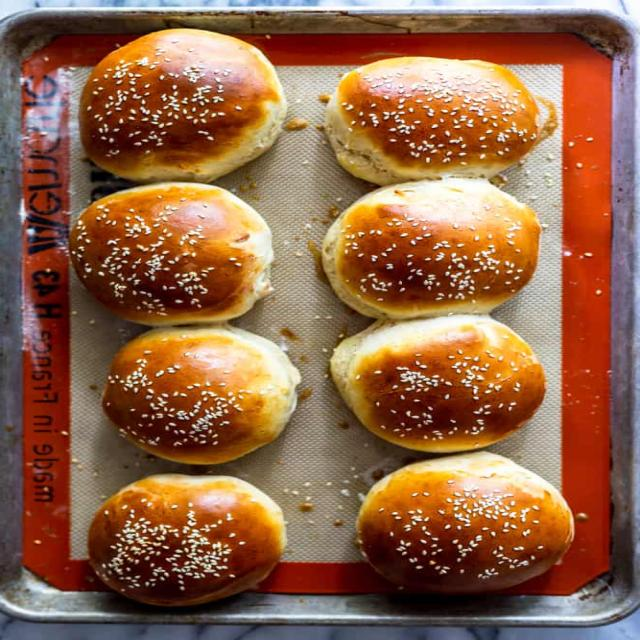Bun: (57, 22, 297, 190), (345, 443, 582, 608), (62, 171, 292, 333), (302, 179, 573, 314), (321, 320, 568, 458), (309, 51, 551, 186), (74, 469, 294, 616), (86, 330, 306, 475)
